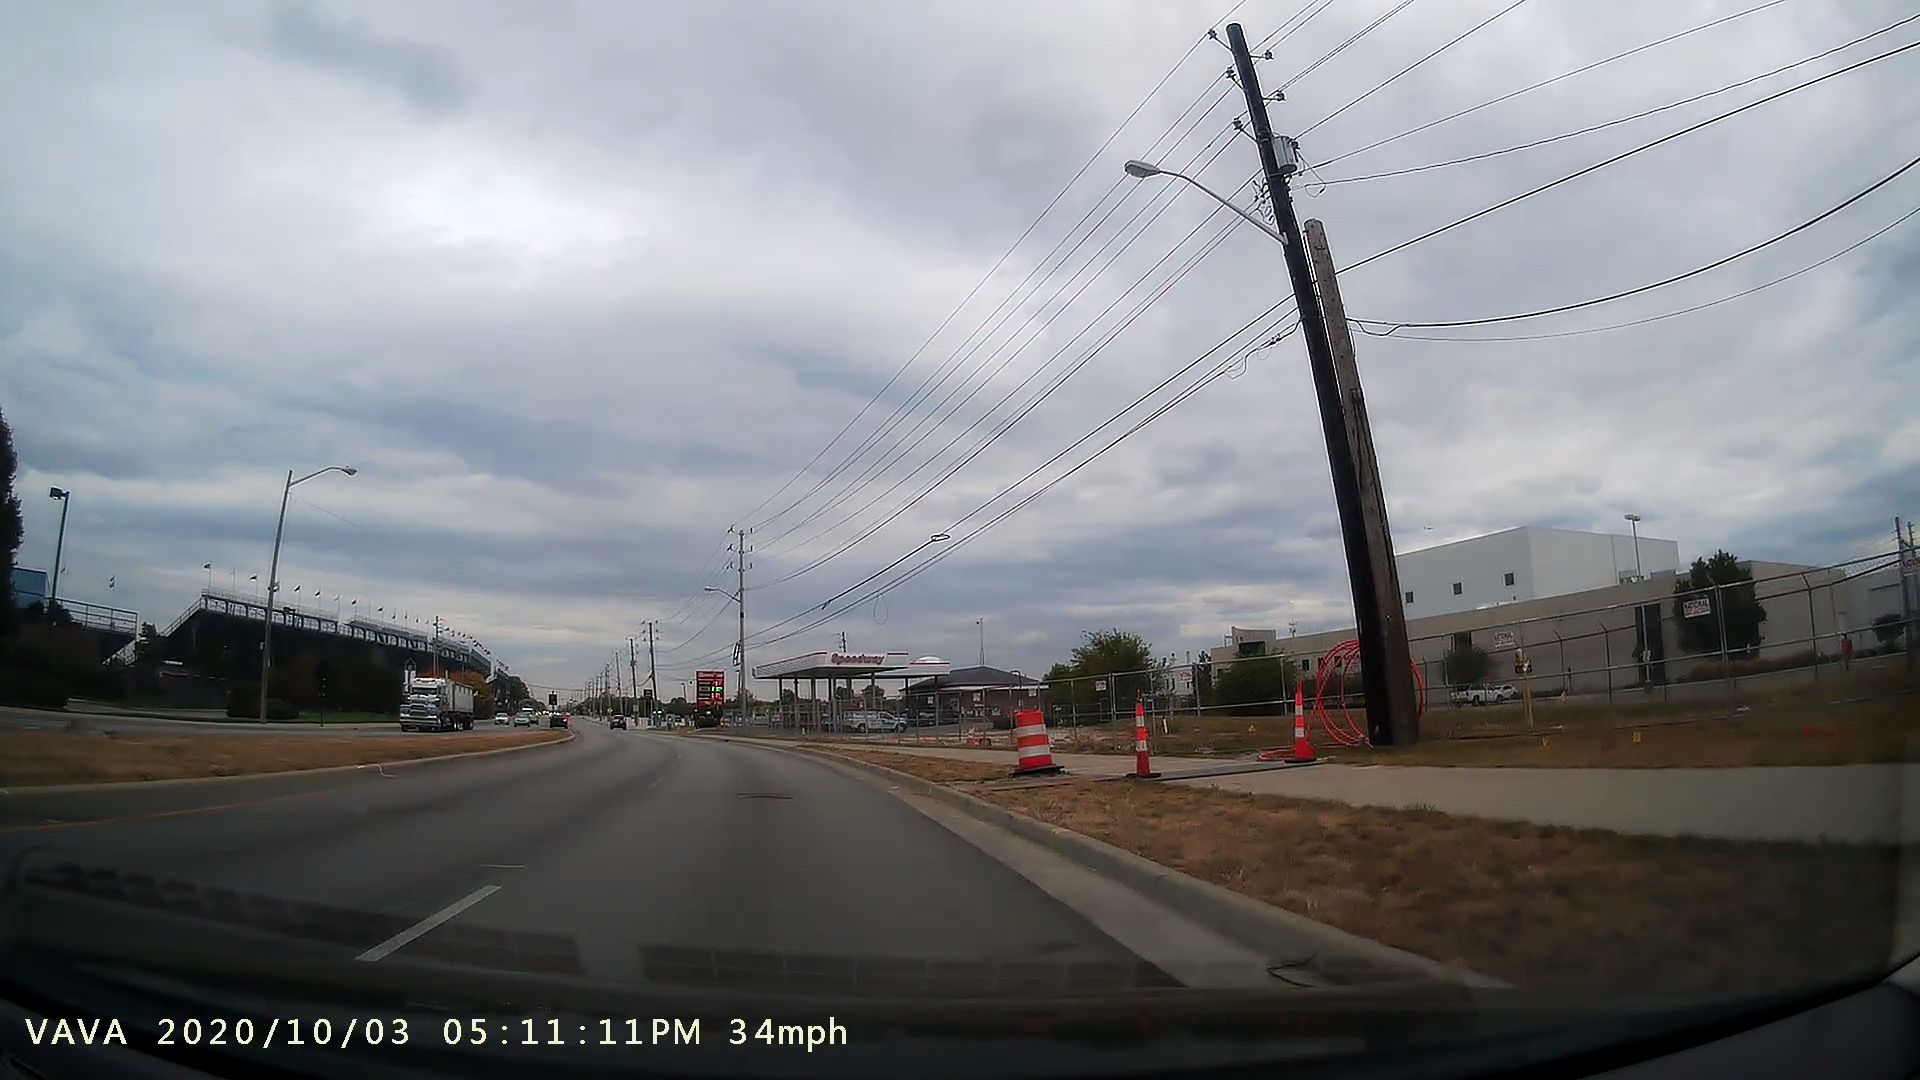const_barrel: (1005, 698, 1072, 787)
const_looper_cone: (1266, 675, 1321, 777), (1116, 694, 1168, 791)
